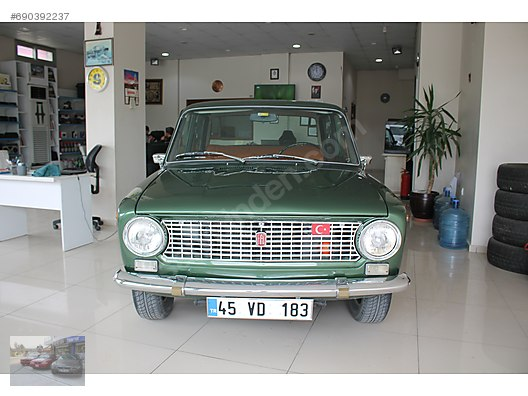murat: (106, 95, 415, 325)
